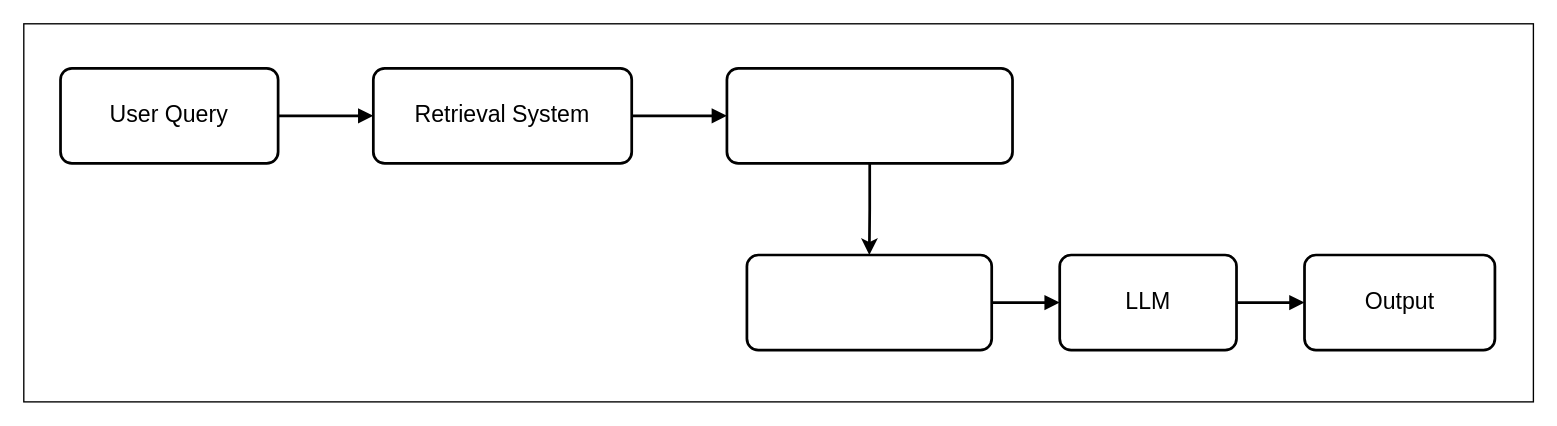
Image size: 1557x426. Some labels were removed from this diagram. Here are the shapes that lost their labels. From the top down, the centre of each, then its label:
At [869,115]: "Relevant Documents".
At [868,302]: "Combined Input".
